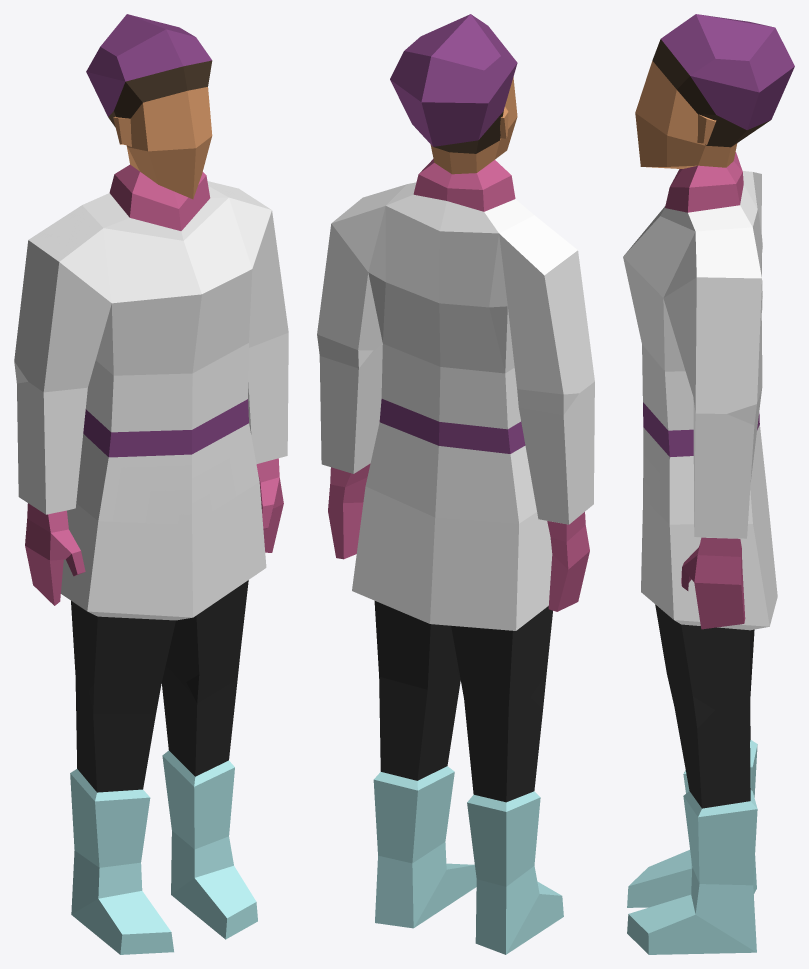
Rendered from people_woman-winter-coat.fbx.
3 views of the same model, side by side, from view 1: azimuth 30°, elevation 25°; view 2: azimuth 150°, elevation 25°; view 3: azimuth 270°, elevation 25° (orthographic).
Parts seen in each view (by area): view 1: people_woman_winter_coat; view 2: people_woman_winter_coat; view 3: people_woman_winter_coat.
Boxes of the visible parts, x1,y1,x2,y2 form: people_woman_winter_coat: (14, 14, 288, 954); people_woman_winter_coat: (317, 14, 594, 954); people_woman_winter_coat: (623, 14, 794, 954).
Size of the model in its own units: 57.51 by 200 by 34.37.
